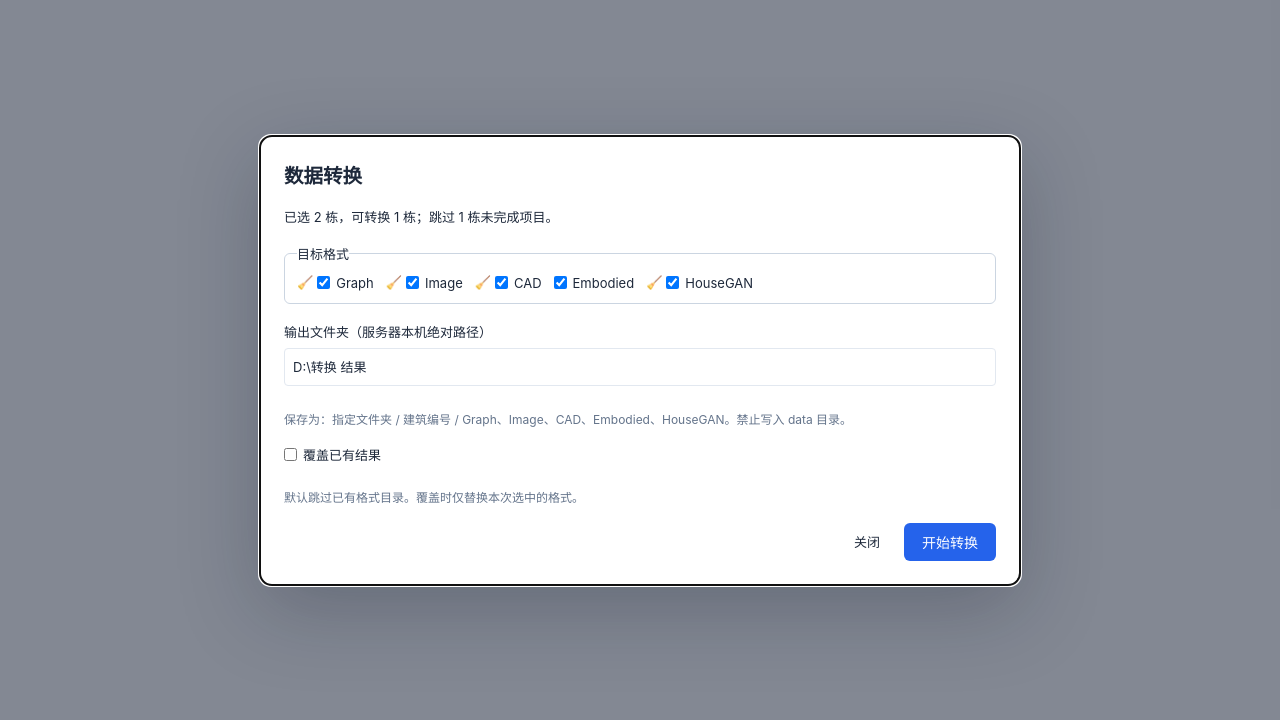
it: ConversionDialog › allows format selection and overwrite and displays submission errors
The width and height of the screenshot is (1280, 720).
Expected: the checkbox labelled "Graph" is shown, [317,276,330,289]
Click the checkbox labelled "Image" at (412, 282), box [406,276,419,289]
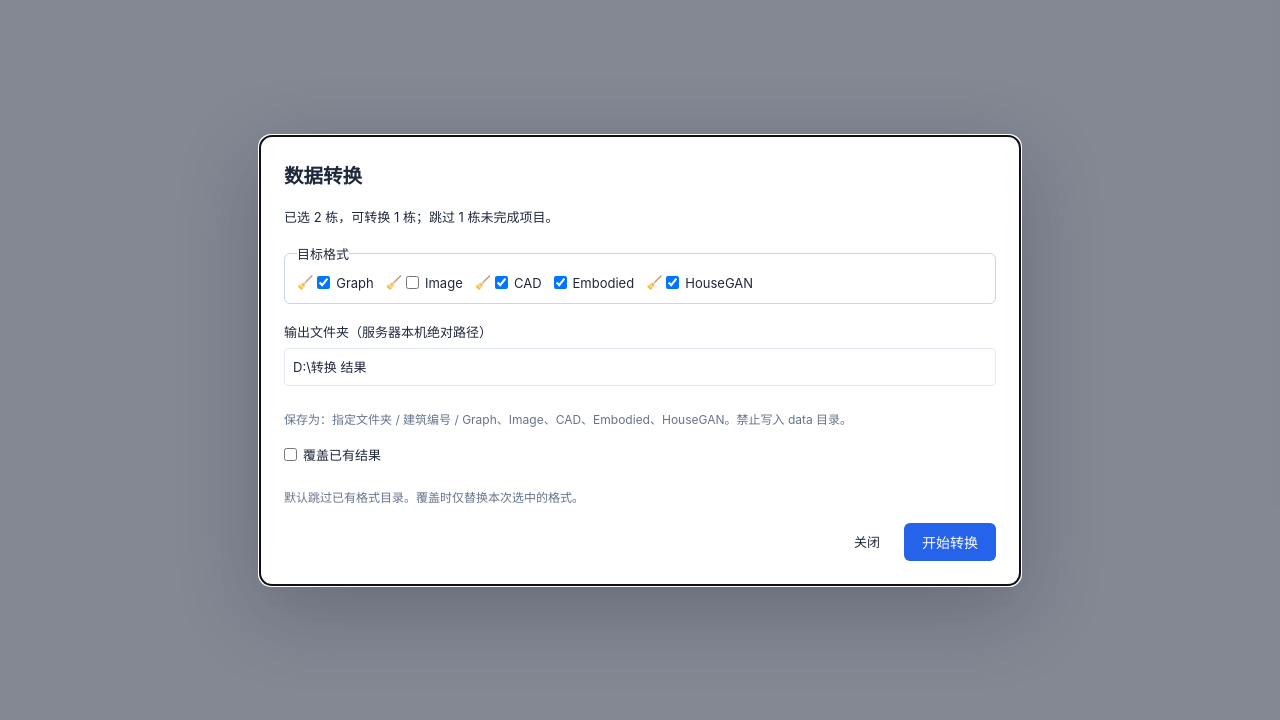
Click the checkbox labelled "CAD" at (501, 282), box [495,276,508,289]
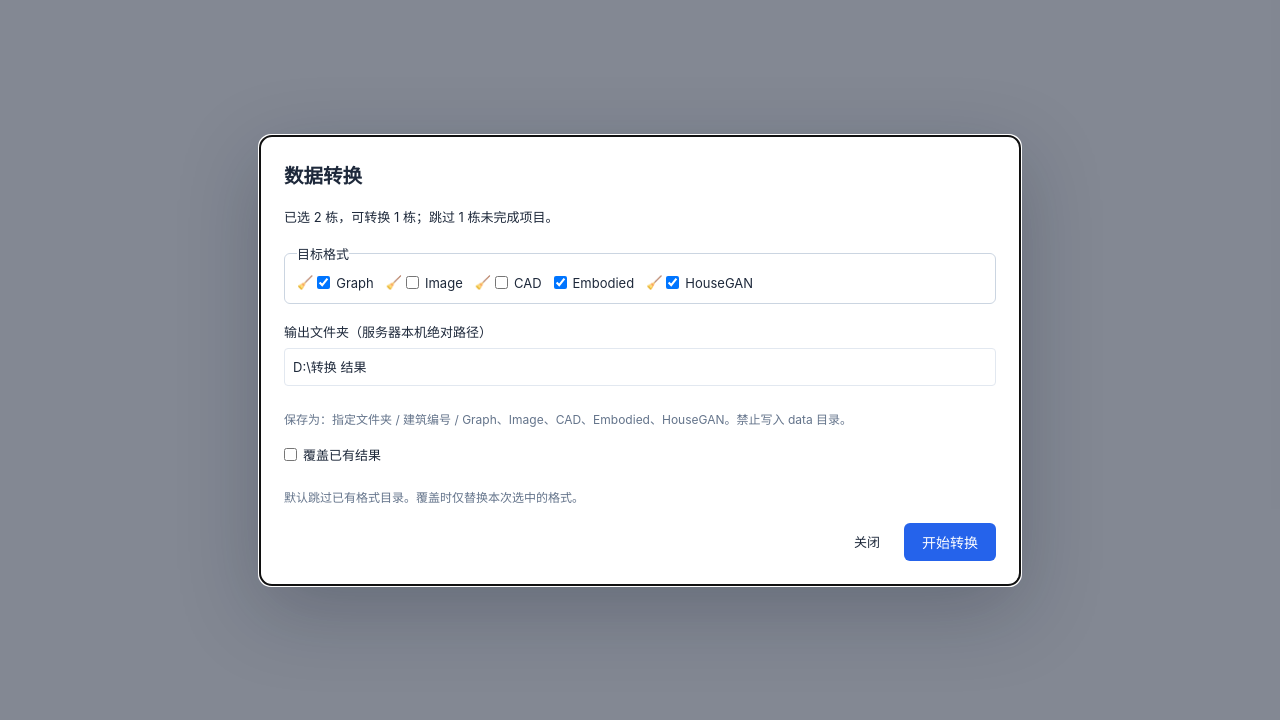
Click the checkbox labelled "Embodied" at (560, 282), box [554,276,566,289]
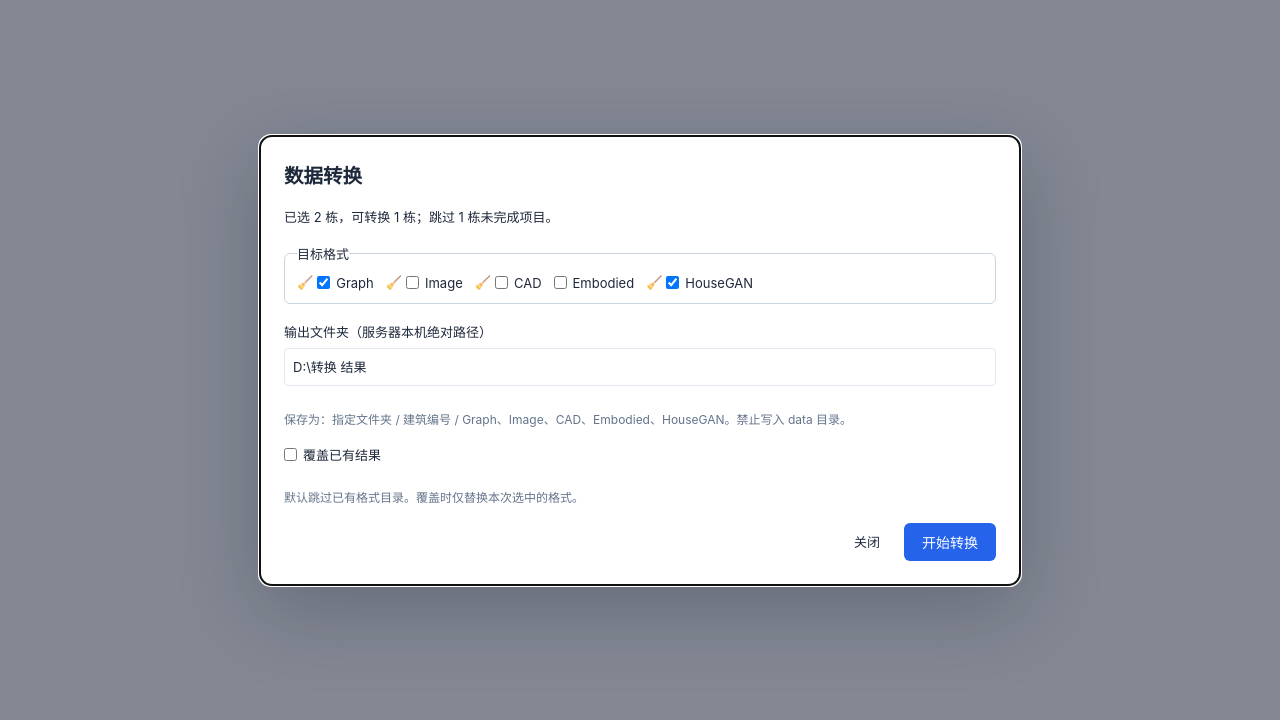
Click the checkbox labelled "HouseGAN" at (673, 282), box [666,276,679,289]
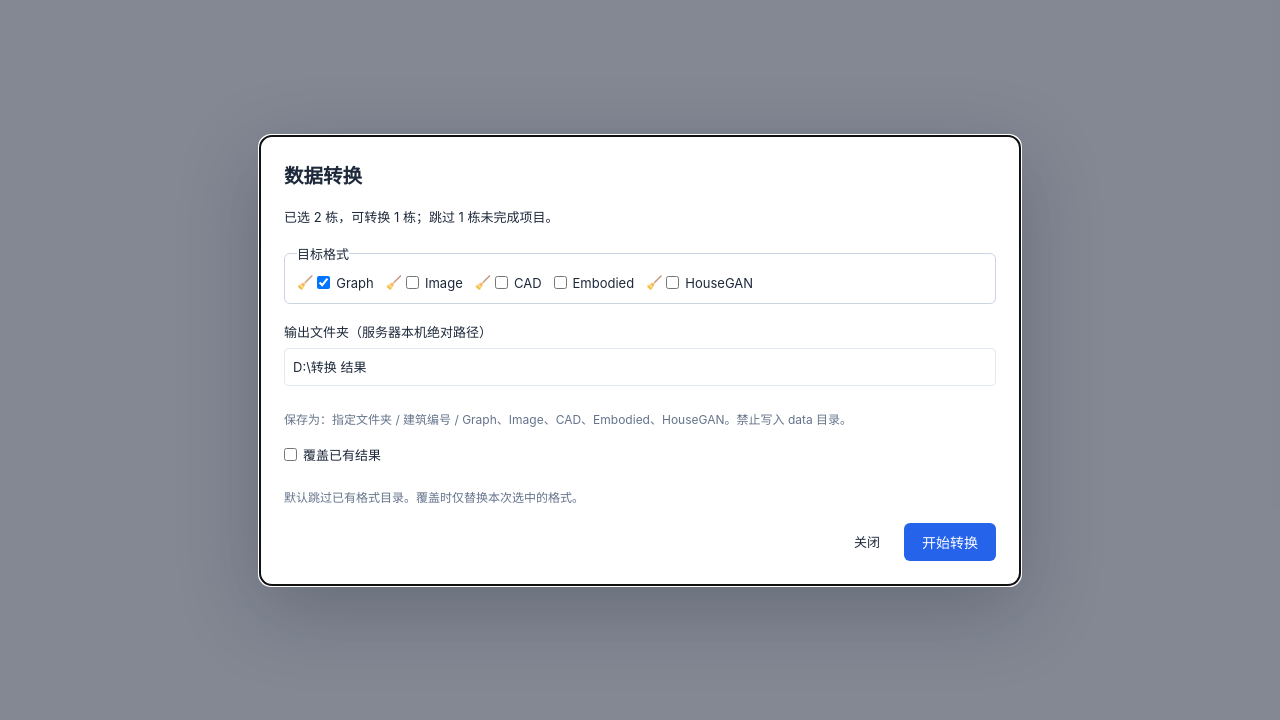
Click the checkbox labelled "覆盖已有结果" at (290, 454), box [284,448,297,460]
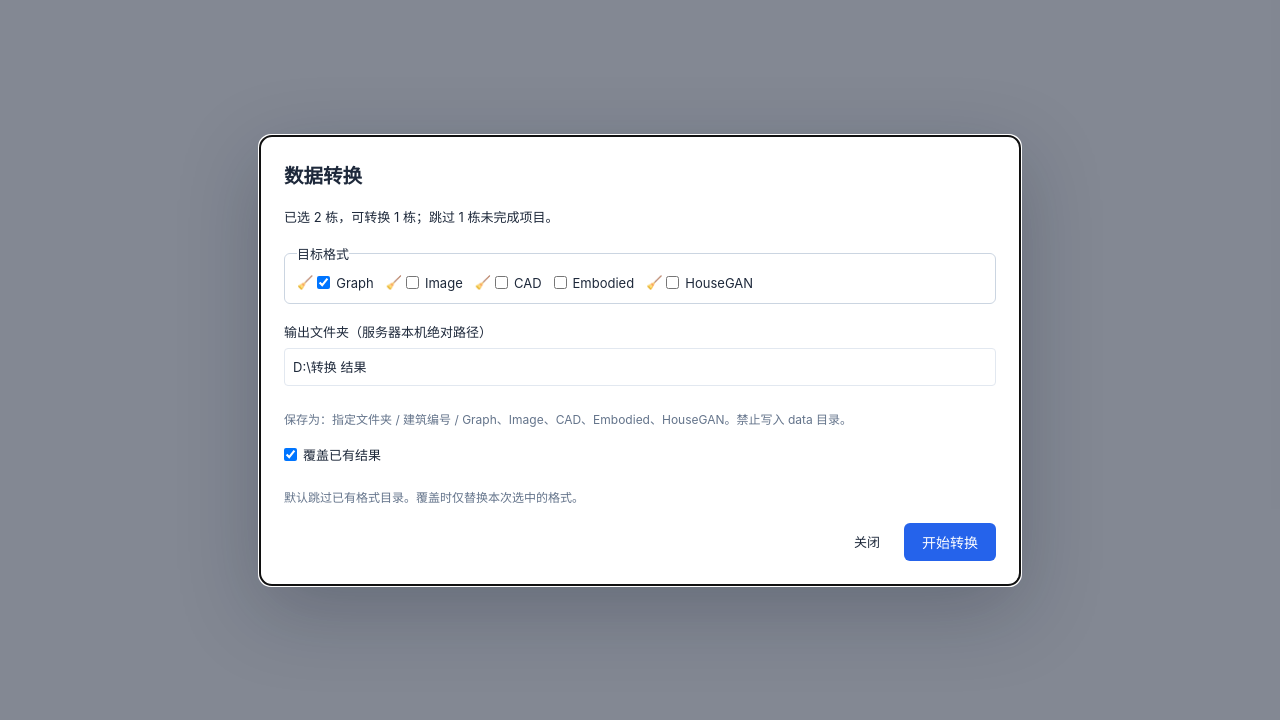
Click the button "开始转换" at (950, 542), box [904,522,996,560]
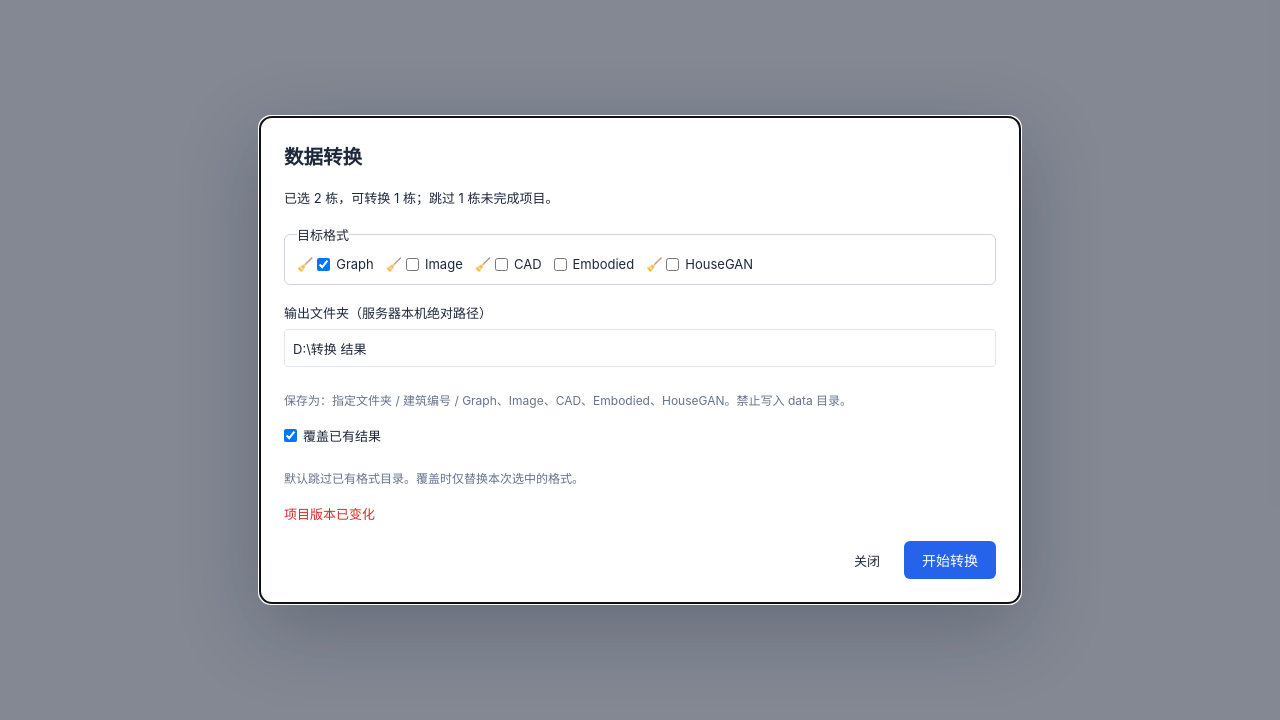
Expected: the message reads "项目版本已变化", [284,506,375,522]
